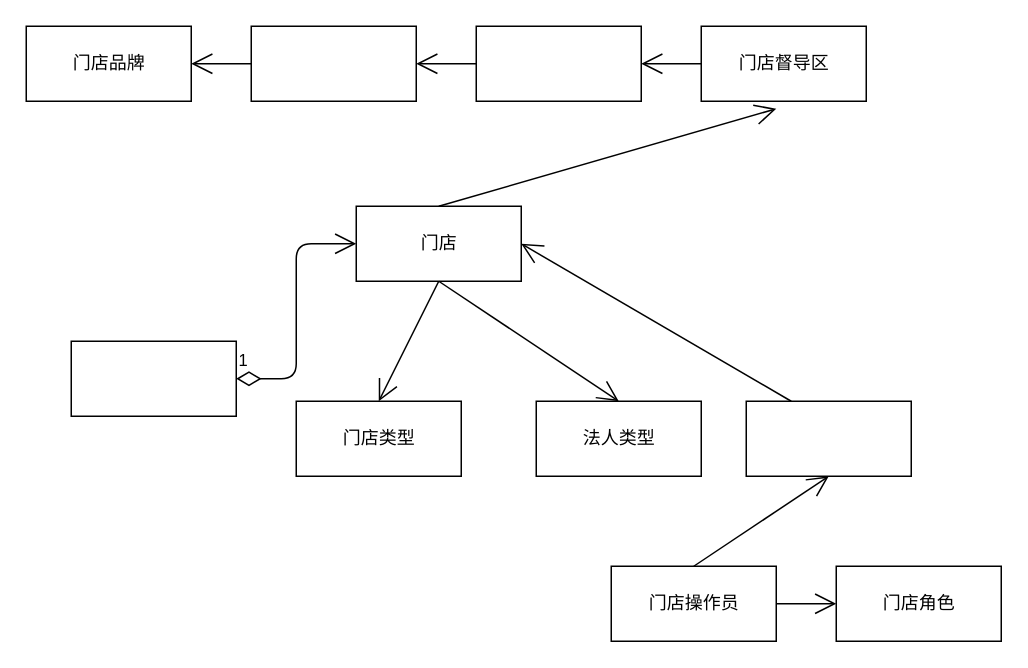
This 1028x668 diagram has some shape labels left out. Each missing label, with the centre of its shape:
"门店市场" goes at (x=333, y=63).
"门店组" goes at (x=153, y=378).
"门店运营区" goes at (x=558, y=63).
"门店部门" goes at (x=828, y=438).
